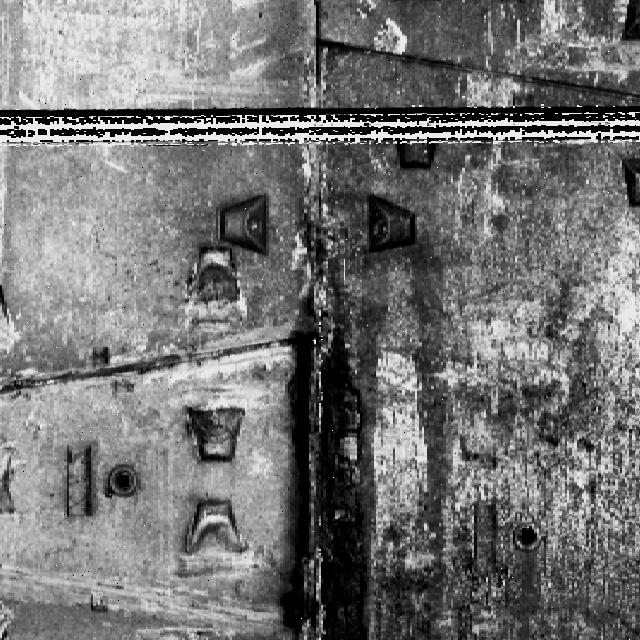leakage: (270, 161, 375, 639)
